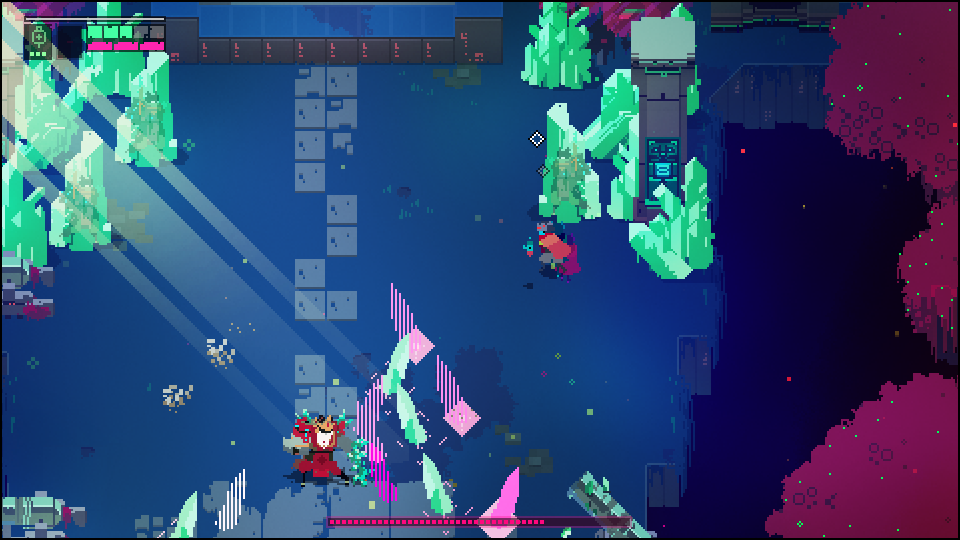hanged_crys: (434, 353, 470, 431), (387, 282, 421, 360), (216, 468, 250, 534), (419, 447, 451, 510), (382, 335, 413, 394), (490, 463, 519, 524)
hanged_man: (280, 404, 373, 492)
player: (531, 219, 576, 276)
